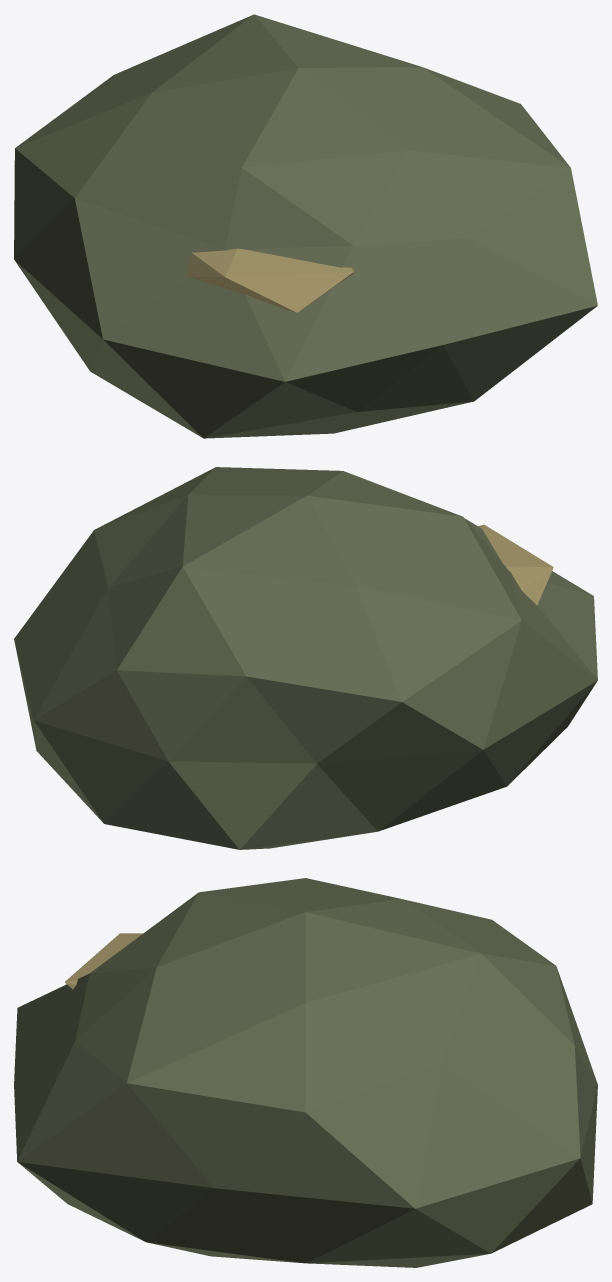
The model's file is rockMass3.obj.
3 renders of one model, top to bottom at view 1: azimuth 30°, elevation 25°; view 2: azimuth 150°, elevation 25°; view 3: azimuth 270°, elevation 25°, orthographic. The views are drawn at different scales.
Parts seen in each view (by area): view 1: rockMass3; view 2: rockMass3; view 3: rockMass3.
Boxes of the visible parts, x1=… form: rockMass3: x1=14, y1=14, x2=597, y2=438; rockMass3: x1=14, y1=467, x2=597, y2=849; rockMass3: x1=14, y1=878, x2=597, y2=1267.
Size of the model in its own units: 1.71 by 1 by 1.71.
1 material, 1 textured.
